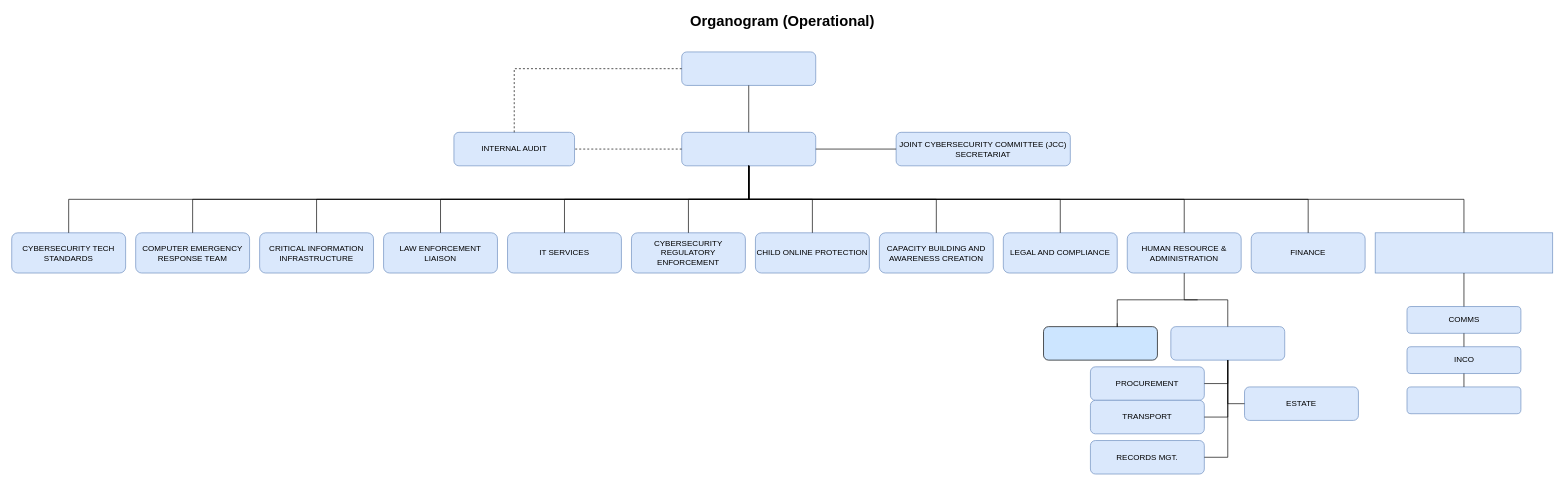
This 1564x486 diagram has some shape labels left out. The shapes that lost their labels are listed below. From the top down, each one's centre as x and y in pixels, then its label:
the point at 748,68: GOVERNING BOARD
the point at 748,149: DIRECTOR GENERAL
the point at 1464,252: COMMUNICATIONS, INTERNATIONAL COOPERATION, AND STRATEGIC PARTNERSHIPS
the point at 1100,343: HR&D
the point at 1227,343: ADMIN
the point at 1463,400: STRATEGIC PARTNERSHIP
